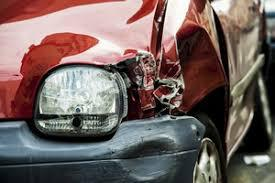fender-dent: (145, 0, 227, 150)
front-bumper-dent: (0, 114, 215, 182)
